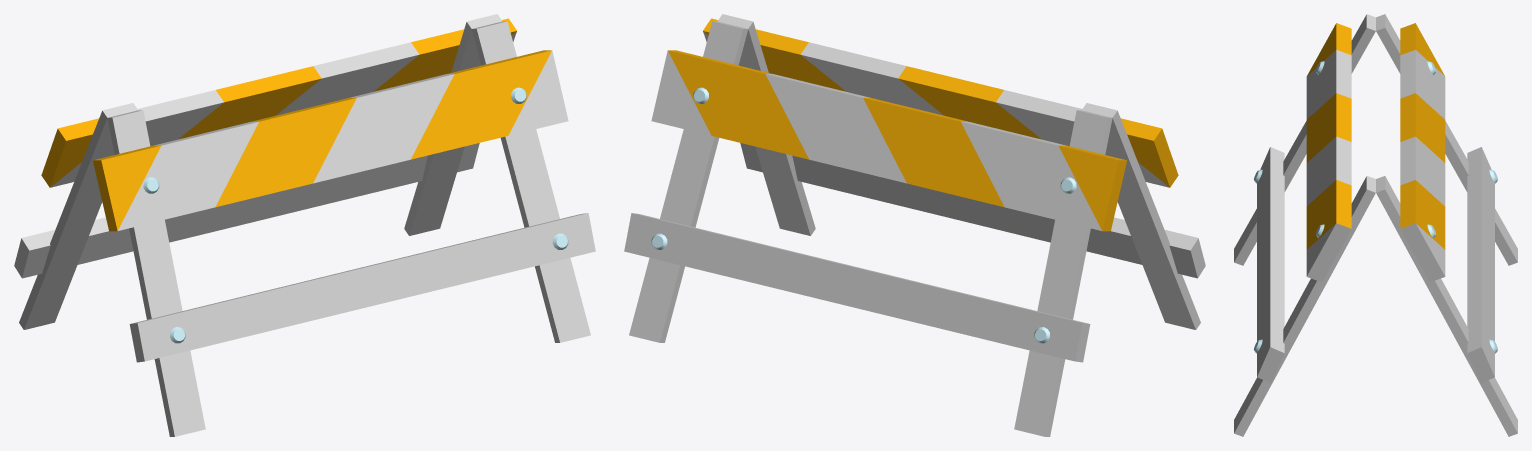
File: barricade.glb
3 renders of one model, left to right at view 1: azimuth 30°, elevation 25°; view 2: azimuth 150°, elevation 25°; view 3: azimuth 270°, elevation 25°, orthographic. The views are drawn at different scales.
Parts seen in each view (by area): view 1: barricade; view 2: barricade; view 3: barricade.
Part boxes in pixels (x1=…): barricade: x1=14, y1=14, x2=595, y2=436; barricade: x1=624, y1=14, x2=1205, y2=436; barricade: x1=1234, y1=14, x2=1517, y2=436.
Size of the model in its own units: 4.42 by 2.5 by 2.65.
